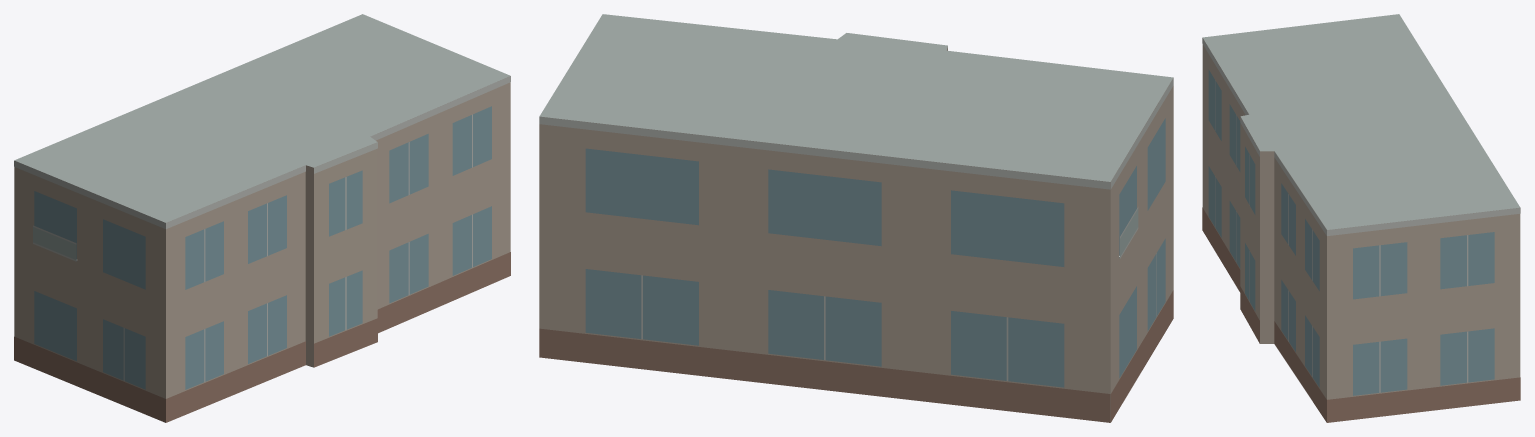
The model's file is survey-upis-32616403.glb.
3 views of the same model, side by side, from view 1: azimuth 30°, elevation 25°; view 2: azimuth 150°, elevation 25°; view 3: azimuth 270°, elevation 25° (orthographic). The views are drawn at different scales.
Visible parts, largest first — view 1: survey-upis-32616403.tmp; view 2: survey-upis-32616403.tmp; view 3: survey-upis-32616403.tmp.
Boxes of the visible parts, left/top/right/bottom form: survey-upis-32616403.tmp: left=14, top=14, right=510, bottom=422; survey-upis-32616403.tmp: left=539, top=14, right=1173, bottom=422; survey-upis-32616403.tmp: left=1202, top=14, right=1520, bottom=422.
Size of the model in its own units: 18.52 by 7.7 by 11.52.
